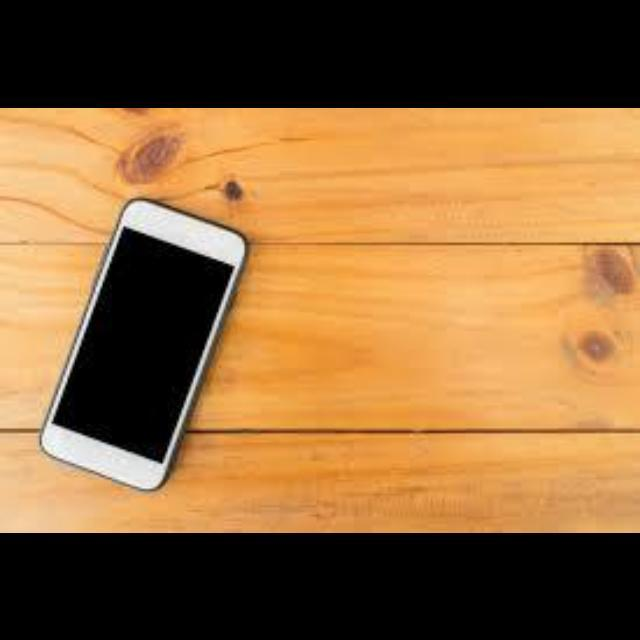Phone: (40, 196, 248, 492)
